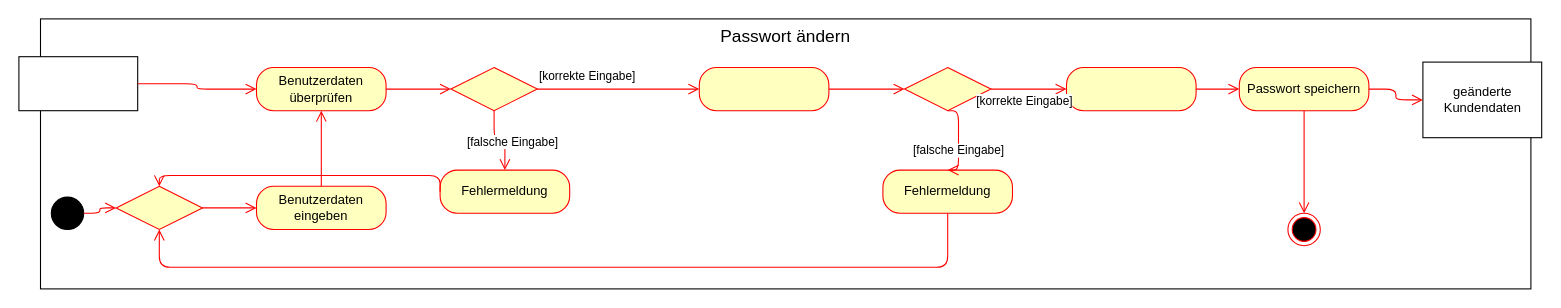
Some shapes in this 1561 by 308 pixel diagram are drawn without their labels. Here are the shapes that lost their labels. From the top down, the box of each, then its label:
(18, 56, 138, 111): Kundendaten
(698, 66, 829, 111): neues Passwort eingeben mit Wiederholung
(1065, 66, 1196, 111): Passwort hashen
